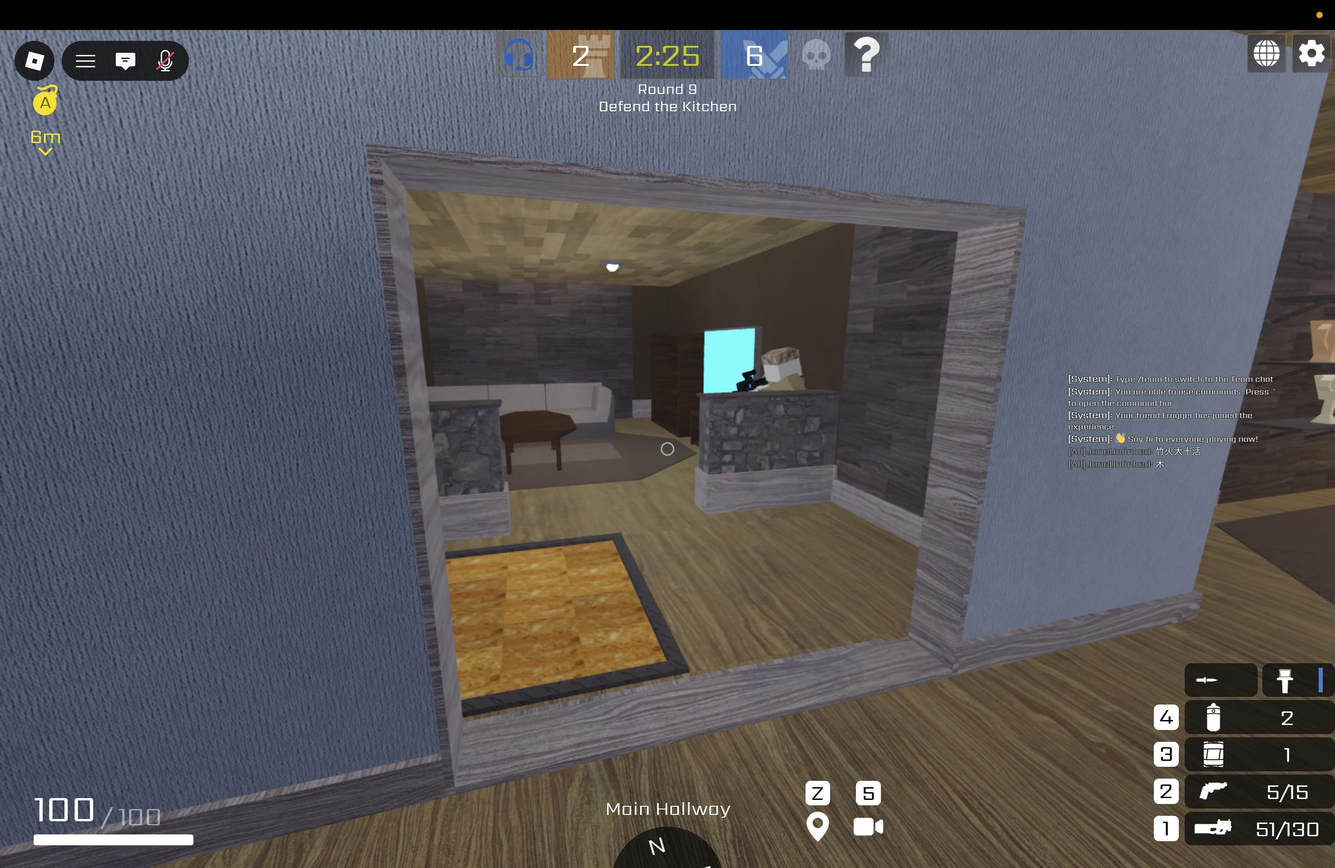enemy: (739, 346, 807, 392)
